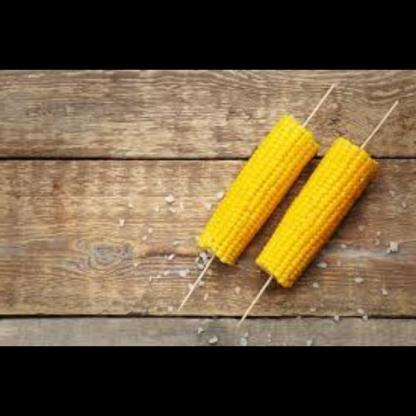corn: (253, 129, 375, 295), (193, 114, 323, 268)
